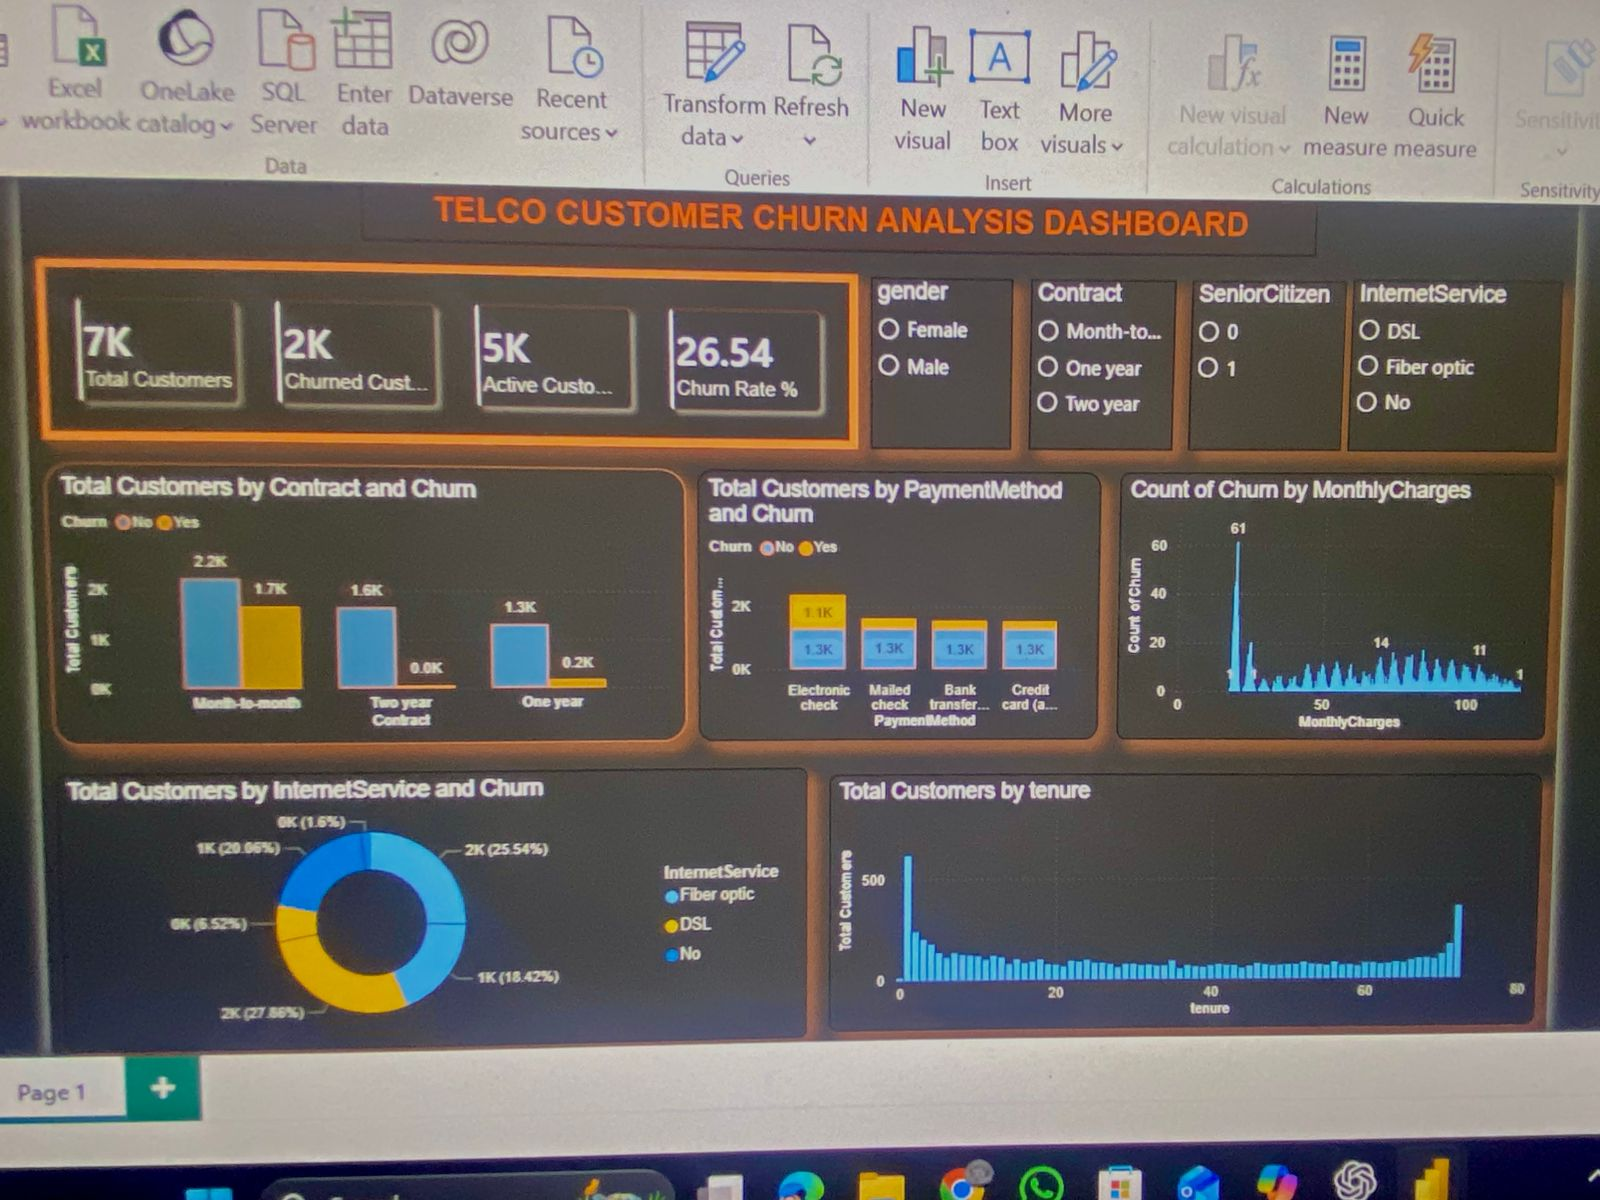

This screenshot's page, from the dashboard's own definition file:
{"tool":"powerbi","page":{"name":"Page 1","canvas":[1280,720],"ordinal":0},"visuals":[{"type":"cardVisual","fields":{"Data":["WA_Fn-UseC_-Telco-Customer-Churn.Total Customers","WA_Fn-UseC_-Telco-Customer-Churn.Churned Customers","WA_Fn-UseC_-Telco-Customer-Churn.Active Customers","WA_Fn-UseC_-Telco-Customer-Churn.Churn Rate %"]},"box":[12.7,65.2,656.9,143.2],"z":0},{"type":"clusteredColumnChart","fields":{"Category":["WA_Fn-UseC_-Telco-Customer-Churn.Contract"],"Y":["WA_Fn-UseC_-Telco-Customer-Churn.Total Customers"],"Series":["WA_Fn-UseC_-Telco-Customer-Churn.Churn"]},"box":[13.2,226.8,512.1,230.6],"z":1000},{"type":"donutChart","fields":{"Category":["WA_Fn-UseC_-Telco-Customer-Churn.InternetService"],"Series":["WA_Fn-UseC_-Telco-Customer-Churn.Churn"],"Y":["WA_Fn-UseC_-Telco-Customer-Churn.Total Customers"]},"box":[12.7,482,614,233.8],"z":2000},{"type":"columnChart","fields":{"Category":["WA_Fn-UseC_-Telco-Customer-Churn.PaymentMethod"],"Y":["WA_Fn-UseC_-Telco-Customer-Churn.Total Customers"],"Series":["WA_Fn-UseC_-Telco-Customer-Churn.Churn"]},"box":[534.8,226.8,343.9,230.6],"z":3000},{"type":"columnChart","fields":{"Y":["WA_Fn-UseC_-Telco-Customer-Churn.Total Customers"],"Category":["WA_Fn-UseC_-Telco-Customer-Churn.tenure"]},"box":[645.8,488.3,623.5,222.7],"z":4000},{"type":"columnChart","fields":{"Category":["WA_Fn-UseC_-Telco-Customer-Churn.MonthlyCharges"],"Y":["CountNonNull(WA_Fn-UseC_-Telco-Customer-Churn.Churn)"]},"box":[895.5,227.5,373.8,230.6],"z":5000},{"type":"listSlicer","fields":{"Values":["WA_Fn-UseC_-Telco-Customer-Churn.gender"]},"box":[680.8,66.8,119.3,141.6],"z":6000},{"type":"listSlicer","fields":{"Values":["WA_Fn-UseC_-Telco-Customer-Churn.Contract"]},"box":[816,66.8,122.5,141.6],"z":7000},{"type":"listSlicer","fields":{"Values":["WA_Fn-UseC_-Telco-Customer-Churn.SeniorCitizen"]},"box":[952.8,66.8,130.4,141.6],"z":8000},{"type":"listSlicer","fields":{"Values":["WA_Fn-UseC_-Telco-Customer-Churn.InternetService"]},"box":[1089.6,65.2,179.7,143.2],"z":9000},{"type":"textbox","box":[268.8,0,787.4,46.1],"z":9001}]}

Visuals, with their boxes in screenshot pixels (x1, y1, x2, y2):
cardVisual - WA_Fn-UseC_-Telco-Customer-Churn.Total Customers x WA_Fn-UseC_-Telco-Customer-Churn.Churned Customers: bbox=[69, 278, 850, 448]
clusteredColumnChart - WA_Fn-UseC_-Telco-Customer-Churn.Contract x WA_Fn-UseC_-Telco-Customer-Churn.Total Customers: bbox=[70, 470, 679, 744]
donutChart - WA_Fn-UseC_-Telco-Customer-Churn.InternetService x WA_Fn-UseC_-Telco-Customer-Churn.Churn: bbox=[69, 773, 799, 1051]
columnChart - WA_Fn-UseC_-Telco-Customer-Churn.PaymentMethod x WA_Fn-UseC_-Telco-Customer-Churn.Total Customers: bbox=[690, 470, 1099, 744]
columnChart - WA_Fn-UseC_-Telco-Customer-Churn.Total Customers x WA_Fn-UseC_-Telco-Customer-Churn.tenure: bbox=[822, 781, 1563, 1045]
columnChart - WA_Fn-UseC_-Telco-Customer-Churn.MonthlyCharges x CountNonNull(WA_Fn-UseC_-Telco-Customer-Churn.Churn): bbox=[1119, 471, 1563, 745]
listSlicer - WA_Fn-UseC_-Telco-Customer-Churn.gender: bbox=[864, 279, 1006, 448]
listSlicer - WA_Fn-UseC_-Telco-Customer-Churn.Contract: bbox=[1024, 279, 1170, 448]
listSlicer - WA_Fn-UseC_-Telco-Customer-Churn.SeniorCitizen: bbox=[1187, 279, 1342, 448]
listSlicer - WA_Fn-UseC_-Telco-Customer-Churn.InternetService: bbox=[1350, 278, 1563, 448]
textbox: bbox=[374, 200, 1310, 255]
